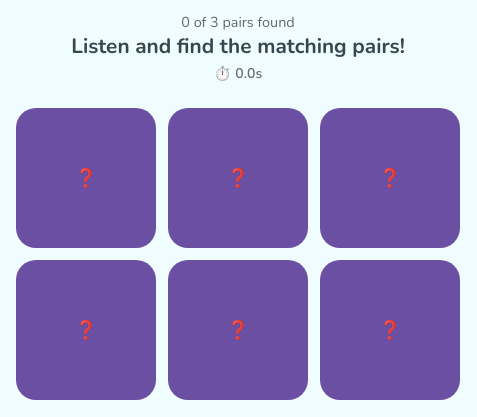
Test case: SoundMemoryMatchGame › shows the generic speaker icon (never a picture) while a tile is face-up but unresolved
The width and height of the screenshot is (477, 417).
Click the 1st button "❓" at (86, 178), box 16,108 -> 156,248
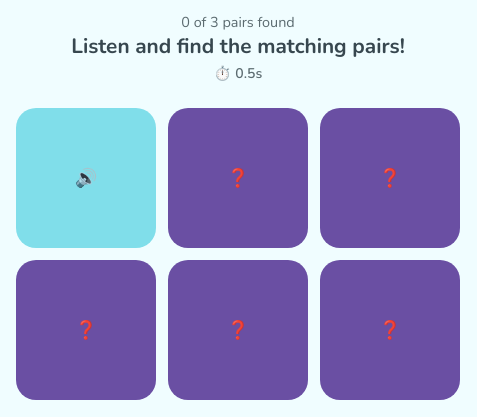
Check: the element with class "memory-board__tile-face" reads "🔊", box 75,166 -> 97,190
